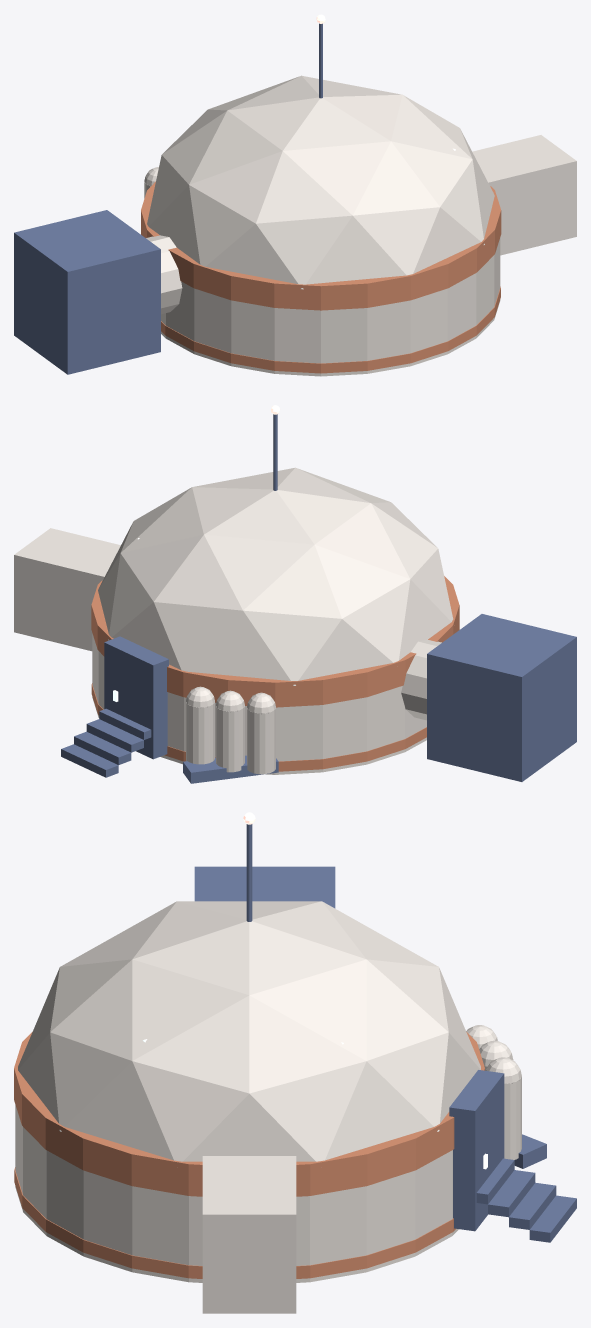
Rendered from hab_module.glb.
3 renders of one model, top to bottom at view 1: azimuth 30°, elevation 25°; view 2: azimuth 150°, elevation 25°; view 3: azimuth 270°, elevation 25°, orthographic. The views are drawn at different scales.
Parts seen in each view (by area): view 1: Hab_GeodesicDome, Cube.013, Hab_CylinderBase, Hab_MidStripe, Cube.014, Hab_BaseStripe, Cylinder.004; view 2: Hab_GeodesicDome, Cube.013, Hab_CylinderBase, Cube.014, Hab_MidStripe, Cube.002, Hab_BaseStripe, Cylinder.003, Cylinder.002, Cylinder.001, Cylinder.004, Cube.012 (+7 smaller); view 3: Hab_GeodesicDome, Hab_CylinderBase, Cube.014, Hab_MidStripe, Cube.002, Cube.013, Hab_BaseStripe, Cylinder.001, Cube.008, Cube.006, Cube.007, Cube.005 (+2 smaller).
Boxes of the visible parts, x1,y1,x2,y2 form: Hab_GeodesicDome: (147,75,494,289); Cube.013: (14,210,160,374); Hab_CylinderBase: (161,238,500,376); Hab_MidStripe: (141,181,501,310); Cube.014: (472,135,576,255); Hab_BaseStripe: (161,286,500,373); Cylinder.004: (146,235,182,314); Hab_GeodesicDome: (98,467,453,685); Cube.013: (427,614,576,781); Hab_CylinderBase: (92,633,426,774); Cube.014: (14,528,120,651); Hab_MidStripe: (91,576,459,707); Cube.002: (104,636,168,759); Hab_BaseStripe: (91,683,426,771); Cylinder.003: (247,708,275,774); Cylinder.002: (216,706,244,772); Cylinder.001: (186,702,214,764); Cylinder.004: (401,639,441,720); Cube.012: (183,755,278,783); Hab_GeodesicDome: (18,901,480,1161); Hab_CylinderBase: (15,1105,458,1282); Cube.014: (202,1156,296,1313); Hab_MidStripe: (14,1032,484,1196); Cube.002: (449,1070,504,1231); Cube.013: (194,866,335,908); Hab_BaseStripe: (14,1167,455,1278); Cylinder.001: (504,1076,521,1159); Cube.008: (529,1195,576,1242); Cube.006: (488,1170,535,1217); Cube.007: (509,1182,556,1229); Cube.005: (476,1158,514,1204).
Bounding box in the file's own units: 9.9 × 5.28 × 7.21.
